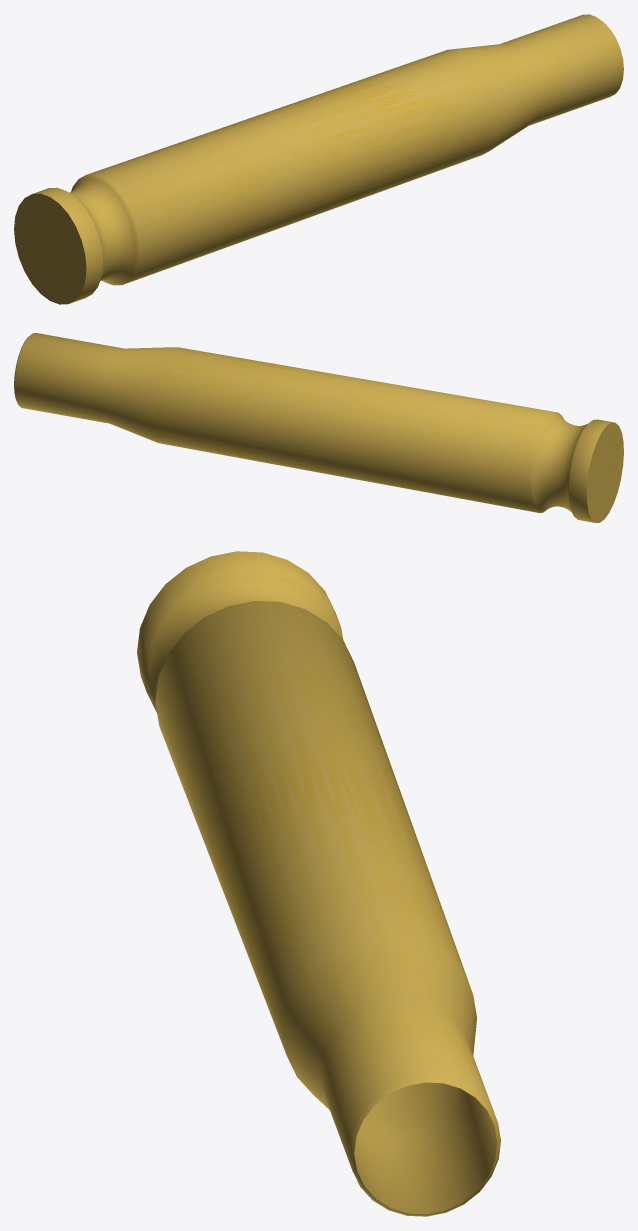
Rendered from 50_bmg.dae.
3 views of the same model, one above another, from view 1: azimuth 30°, elevation 25°; view 2: azimuth 150°, elevation 25°; view 3: azimuth 270°, elevation 25° (orthographic). The views are drawn at different scales.
Parts seen in each view (by area): view 1: Component_214; view 2: Component_214; view 3: Component_214.
Part boxes in pixels (x1,y1,x2,y2): Component_214: (14,14,623,304); Component_214: (14,333,623,522); Component_214: (137,551,500,1216).
Size of the model in its own units: 34.99 by 10.16 by 5.94.
